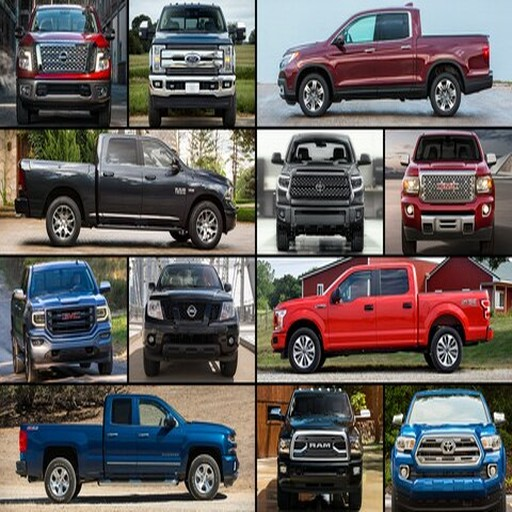truck: (14, 132, 239, 252), (273, 2, 496, 118), (271, 262, 497, 375), (15, 392, 244, 503), (392, 389, 506, 510), (265, 388, 374, 511), (11, 258, 119, 382), (399, 129, 500, 255), (13, 2, 115, 126), (271, 131, 372, 252), (141, 262, 241, 379), (146, 2, 238, 127)
